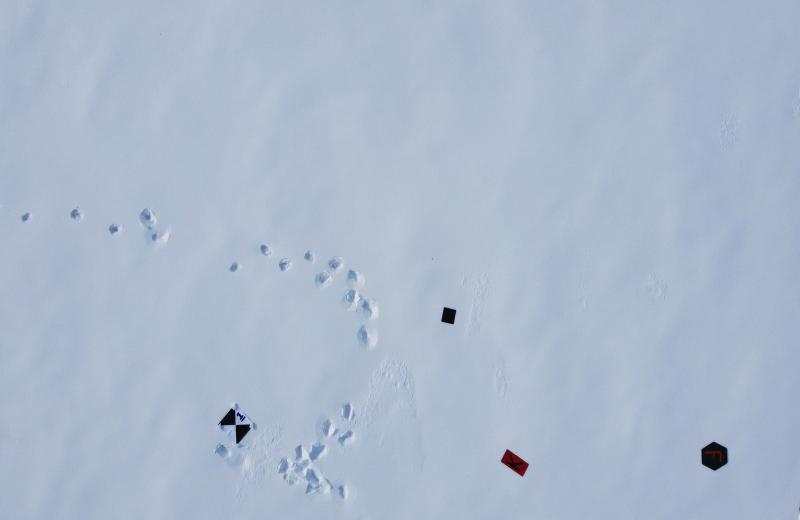Hexagon: (701, 439, 728, 473)
Rectangle: (500, 446, 532, 478)
Square: (439, 305, 458, 326)
